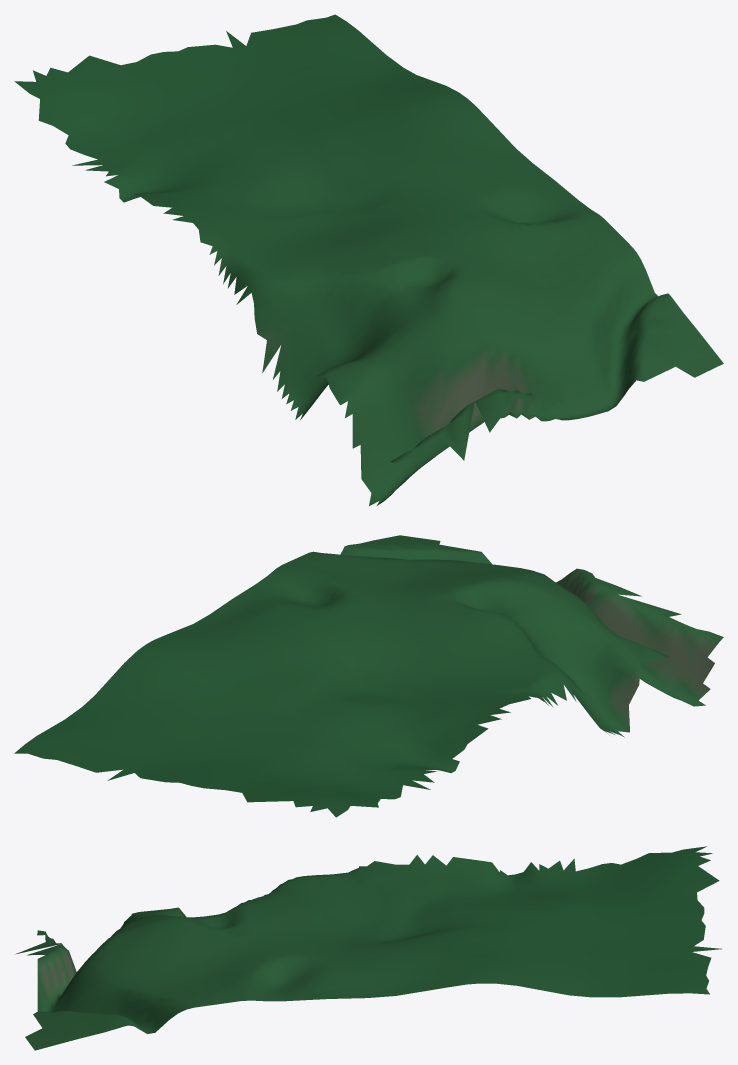
The model's file is payo_land_xm5_y5.glb.
3 renders of one model, top to bottom at view 1: azimuth 30°, elevation 25°; view 2: azimuth 150°, elevation 25°; view 3: azimuth 270°, elevation 25°, orthographic. The views are drawn at different scales.
Visible parts, largest first — view 1: payo_land_xm5_y5; view 2: payo_land_xm5_y5; view 3: payo_land_xm5_y5.
Part boxes in pixels (x1,y1,x2,y2): payo_land_xm5_y5: [14, 14, 723, 505]; payo_land_xm5_y5: [14, 535, 723, 817]; payo_land_xm5_y5: [15, 846, 721, 1050].
Size of the model in its own units: 132 by 58.87 by 272.
